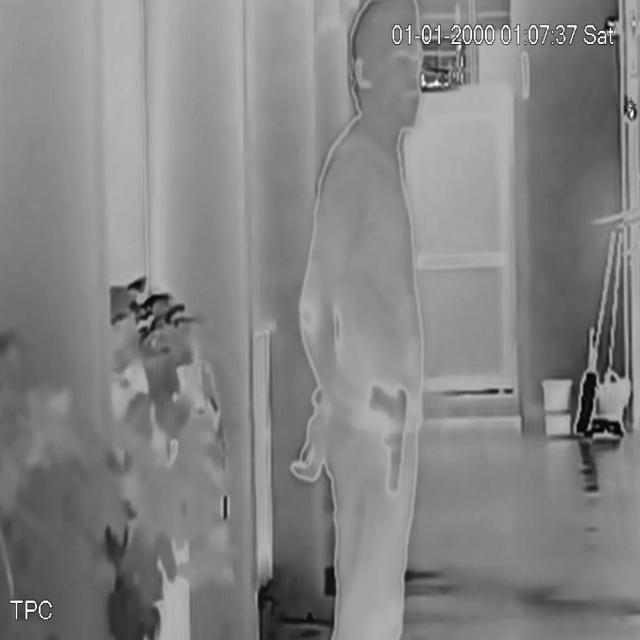Weapon: (365, 373, 415, 497)
